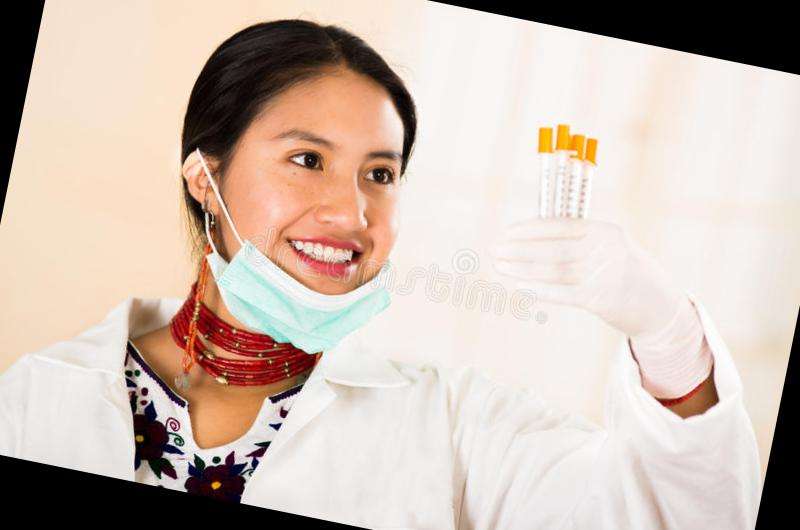mask_weared_incorrect: (230, 113, 417, 347)
